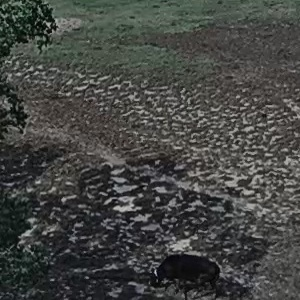cow: (143, 237, 248, 296)
